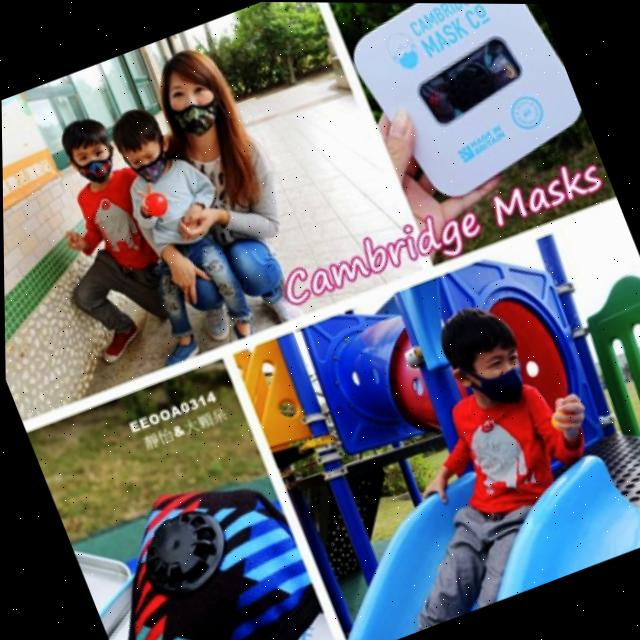Mask: (446, 335, 538, 420), (158, 78, 228, 140), (117, 130, 182, 193), (62, 138, 120, 188)
